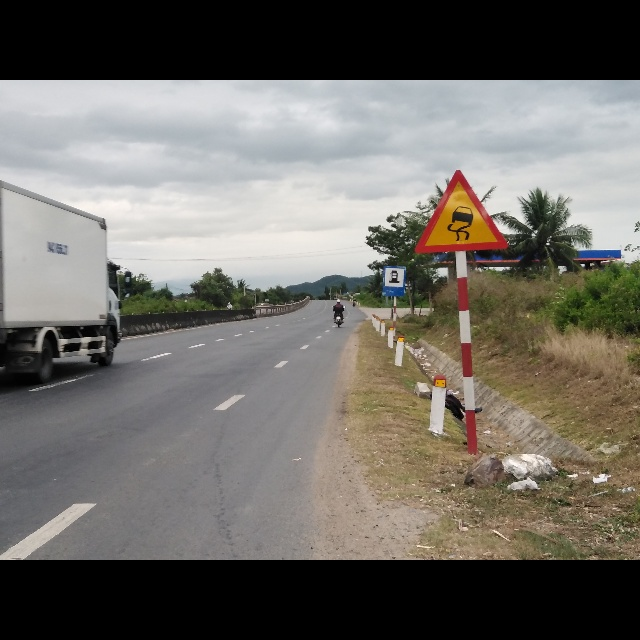Đường trơn trượt: (413, 166, 512, 254)
